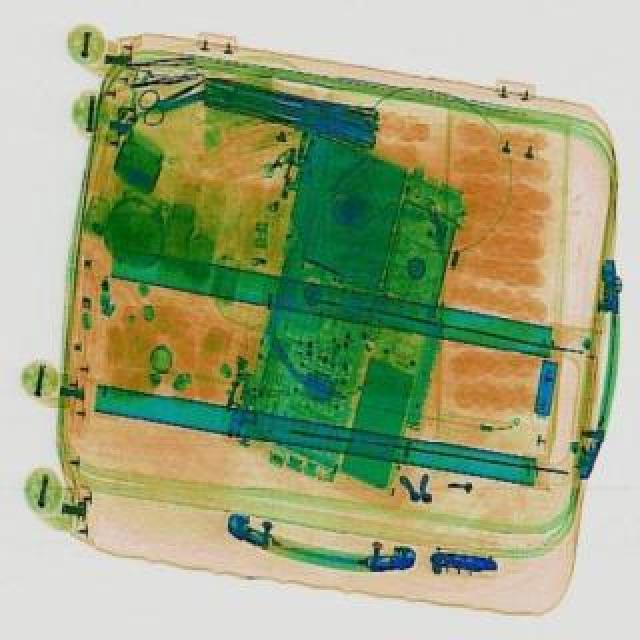pliers: (132, 68, 222, 132)
